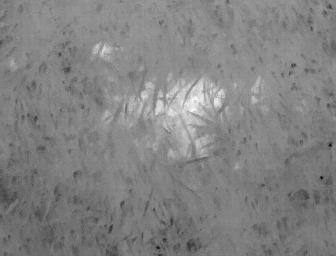landmine: (133, 75, 231, 163)
